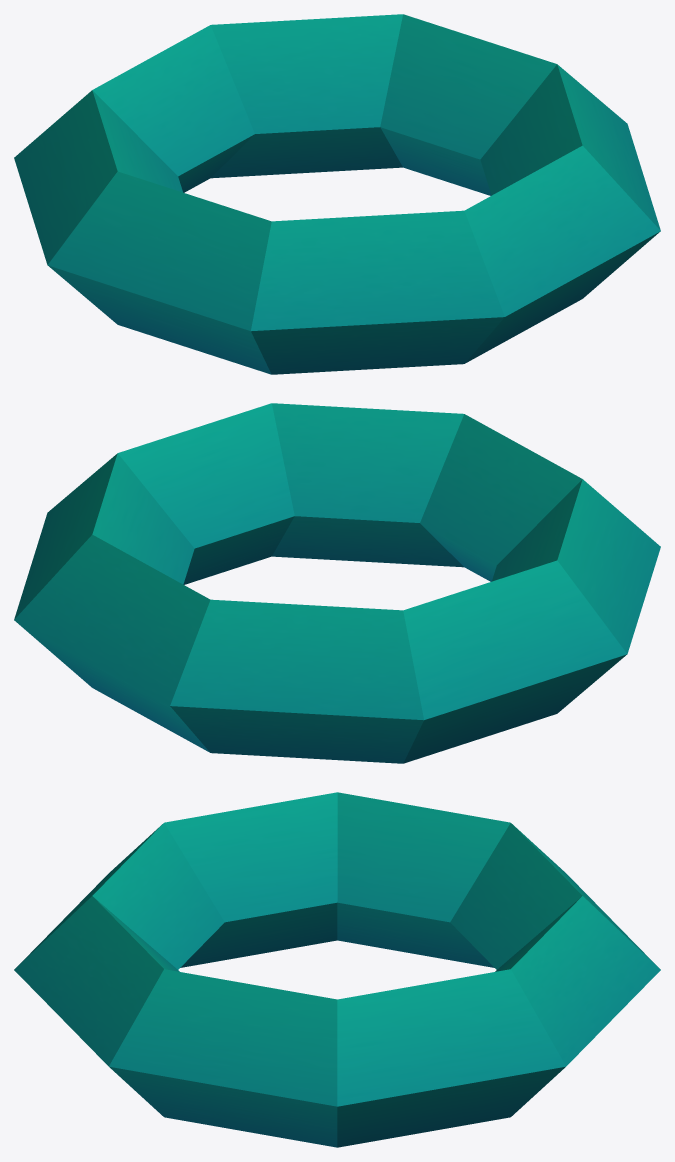
Rendered from flotadorAzul.fbx.
3 renders of one model, top to bottom at view 1: azimuth 30°, elevation 25°; view 2: azimuth 150°, elevation 25°; view 3: azimuth 270°, elevation 25°, orthographic. The views are drawn at different scales.
Visible parts, largest first — view 1: flotadorAzul; view 2: flotadorAzul; view 3: flotadorAzul.
Part boxes in pixels (x1,y1,x2,y2): flotadorAzul: [14, 14, 660, 374]; flotadorAzul: [14, 403, 660, 763]; flotadorAzul: [14, 792, 660, 1147].
Bounding box in the file's own units: 57.36 × 14.5 × 57.36.
1 material, 1 textured.
